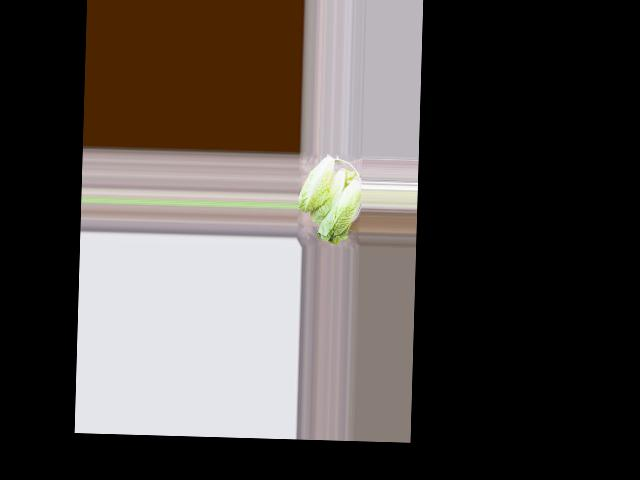lettuce: (316, 170, 362, 243)
